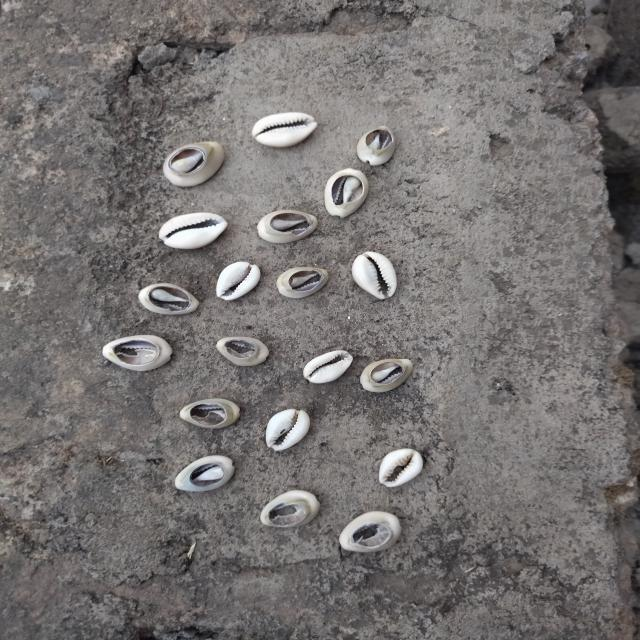facedown: (160, 138, 228, 188), (336, 509, 404, 556), (100, 334, 182, 372), (257, 488, 326, 530), (172, 453, 240, 494), (135, 279, 205, 318), (321, 167, 372, 218), (357, 354, 415, 397), (254, 208, 320, 245), (214, 332, 273, 370), (177, 396, 243, 429), (274, 266, 332, 299), (354, 125, 400, 166)
faceup: (154, 210, 230, 252), (250, 110, 323, 148), (350, 250, 402, 303), (262, 406, 315, 453), (213, 259, 264, 304), (376, 446, 424, 490), (300, 347, 353, 386)
